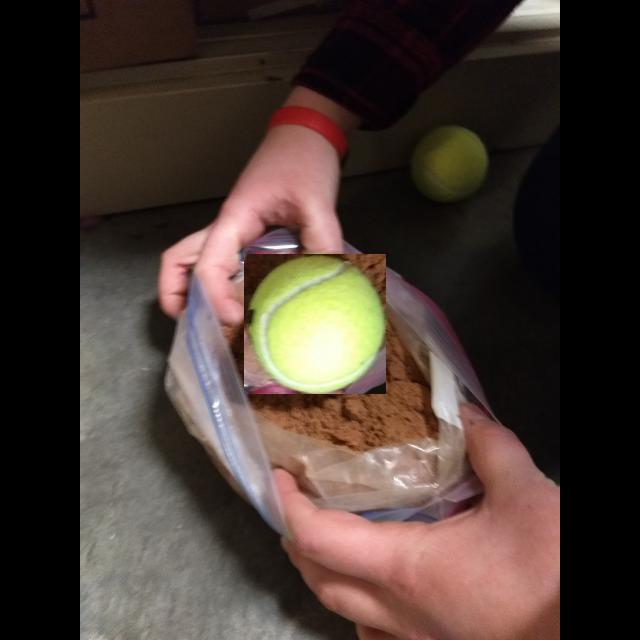tennis ball: (244, 254, 386, 394)
